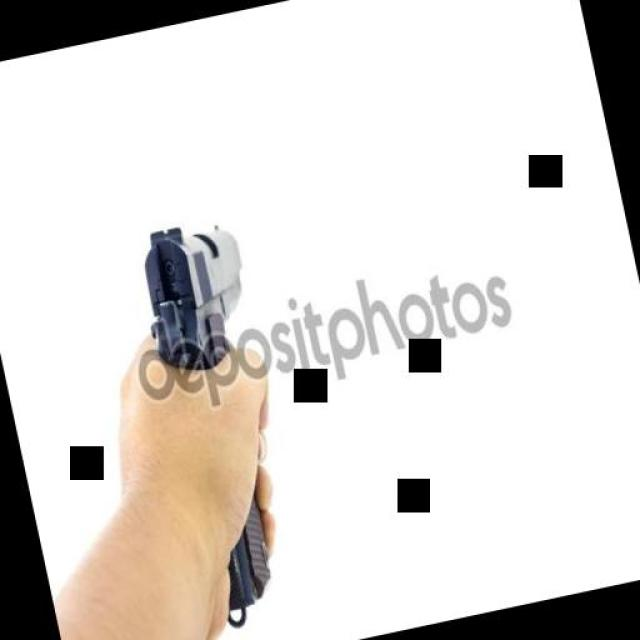gun: (115, 212, 326, 632)
